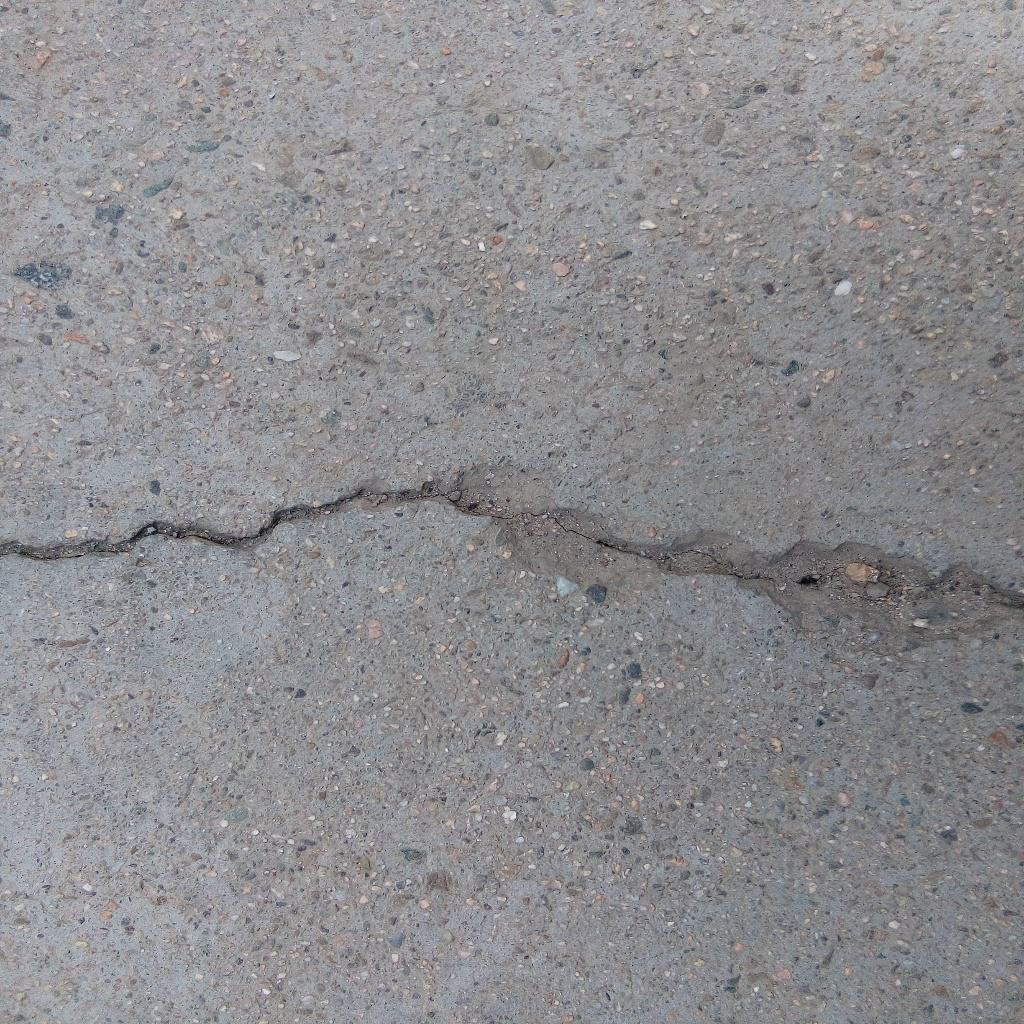Crack: (1, 484, 779, 590)
Spalling: (779, 537, 1024, 656)
